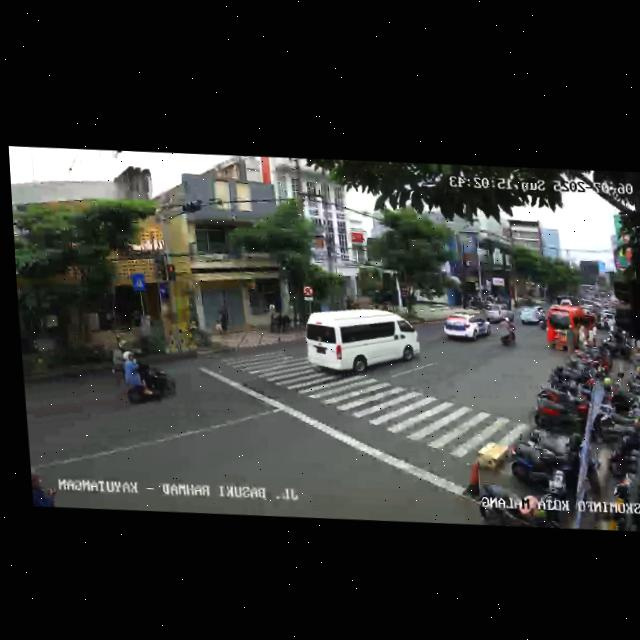car: (302, 301, 424, 385), (543, 303, 599, 355), (441, 312, 488, 347), (516, 305, 547, 327)
motorcycle: (116, 351, 178, 411), (497, 315, 518, 349)
person: (30, 462, 59, 507)
